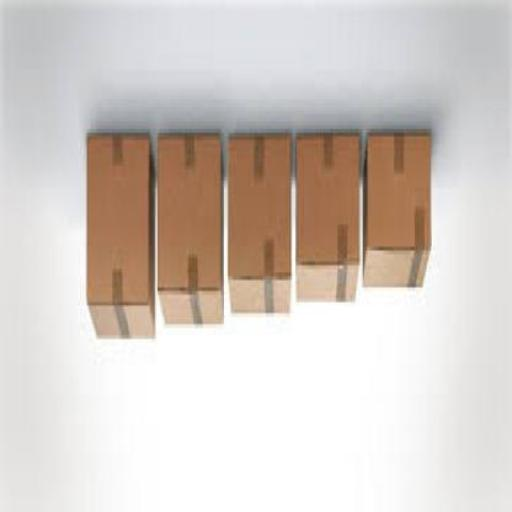cardboard: (86, 132, 154, 346), (156, 137, 222, 331), (294, 132, 360, 302), (228, 137, 290, 316), (361, 133, 429, 290)
